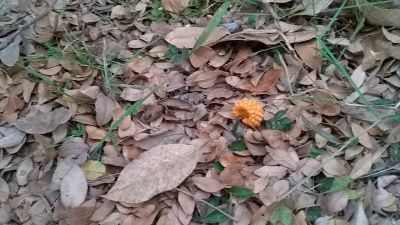eggs: (233, 96, 265, 127)
